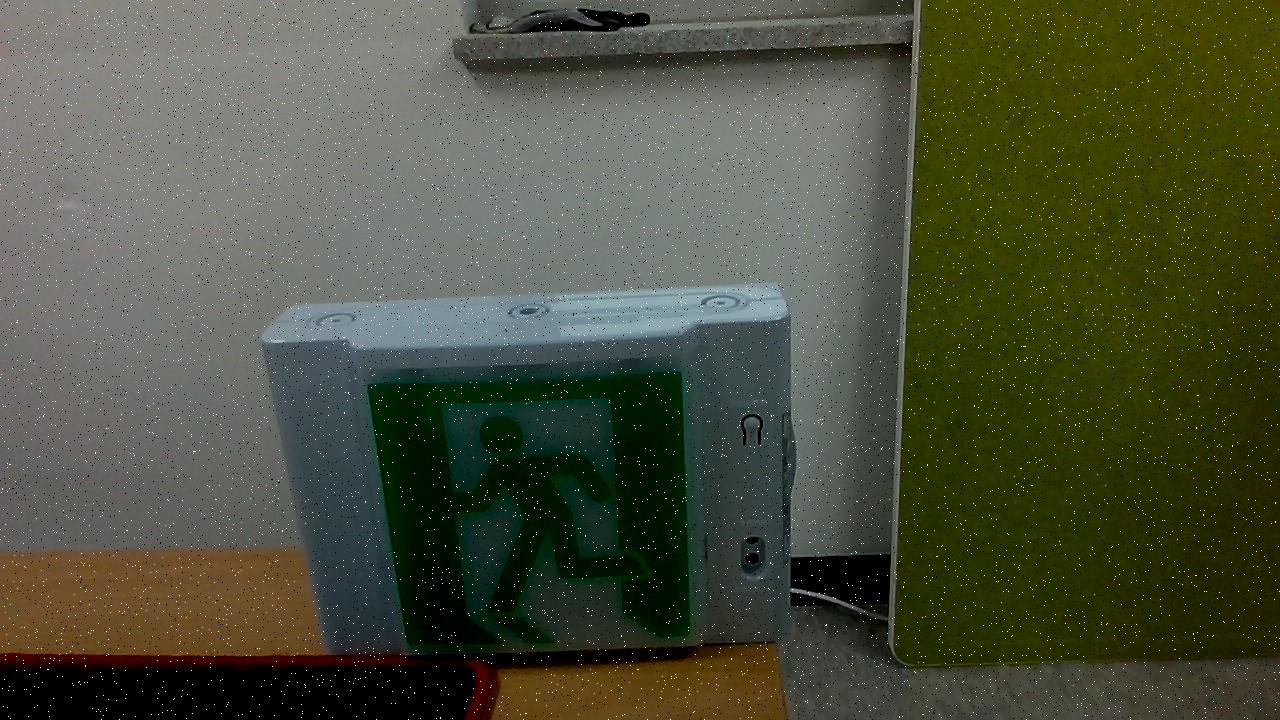emergency_exit: (261, 283, 795, 661), (366, 368, 694, 654)
